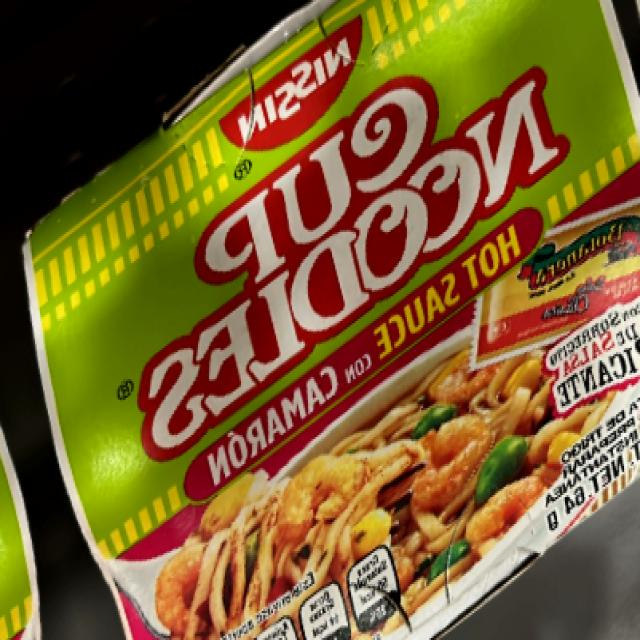nissinCamaron: (115, 54, 622, 612)
